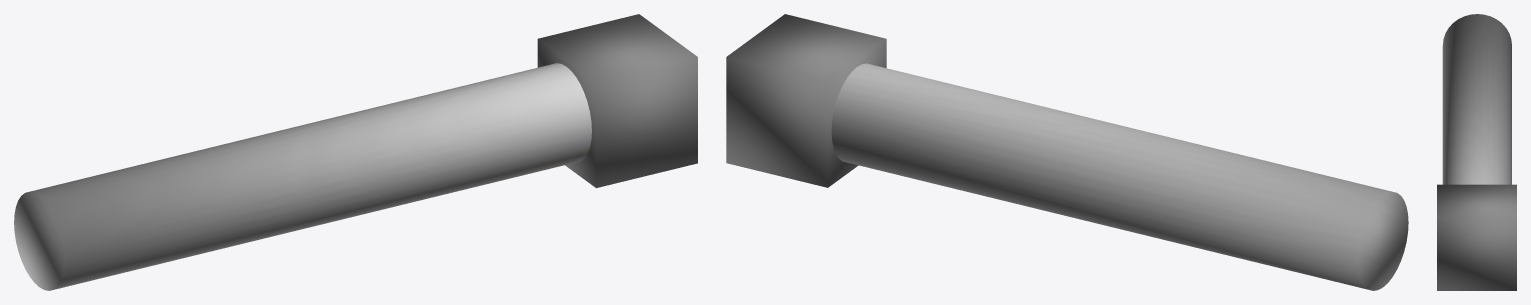
File: tubo.fbx
3 renders of one model, left to right at view 1: azimuth 30°, elevation 25°; view 2: azimuth 150°, elevation 25°; view 3: azimuth 270°, elevation 25°, orthographic. The views are drawn at different scales.
Parts seen in each view (by area): view 1: Cylinder; view 2: Cylinder; view 3: Cylinder.
Boxes of the visible parts, x1=… form: Cylinder: x1=14, y1=14, x2=697, y2=290; Cylinder: x1=726, y1=14, x2=1408, y2=290; Cylinder: x1=1437, y1=14, x2=1516, y2=290.
Bounding box in the file's own units: 1429 × 231 × 231.
